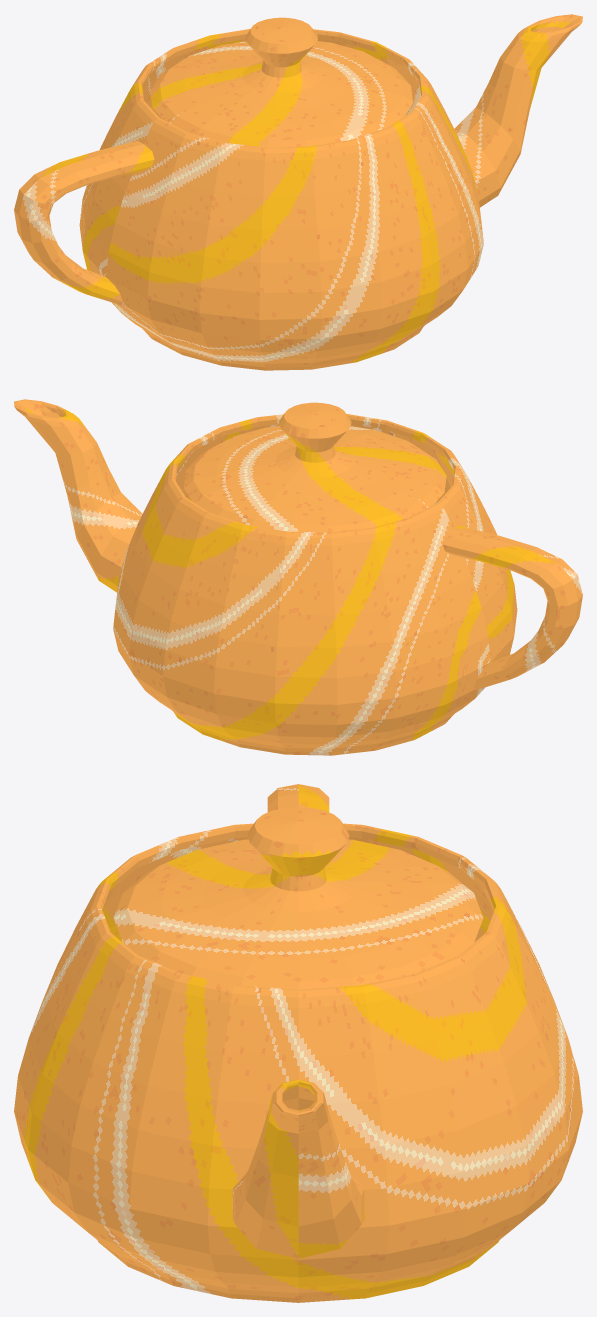
File: teapot.glb
3 views of the same model, one above another, from view 1: azimuth 30°, elevation 25°; view 2: azimuth 150°, elevation 25°; view 3: azimuth 270°, elevation 25° (orthographic). The views are drawn at different scales.
Visible parts, largest first — view 1: Teapot; view 2: Teapot; view 3: Teapot.
Boxes of the visible parts, bbox=[...] form: Teapot: bbox=[14, 14, 582, 370]; Teapot: bbox=[14, 399, 582, 755]; Teapot: bbox=[14, 784, 582, 1302].
Bounding box in the file's own units: 0.6474 × 0.3169 × 0.4025.
1 material, 1 textured.
